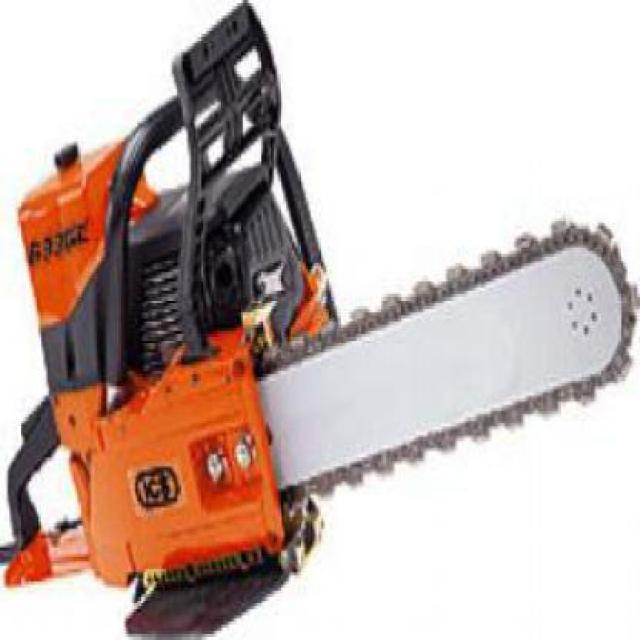Chainsaw: (2, 4, 630, 630)
